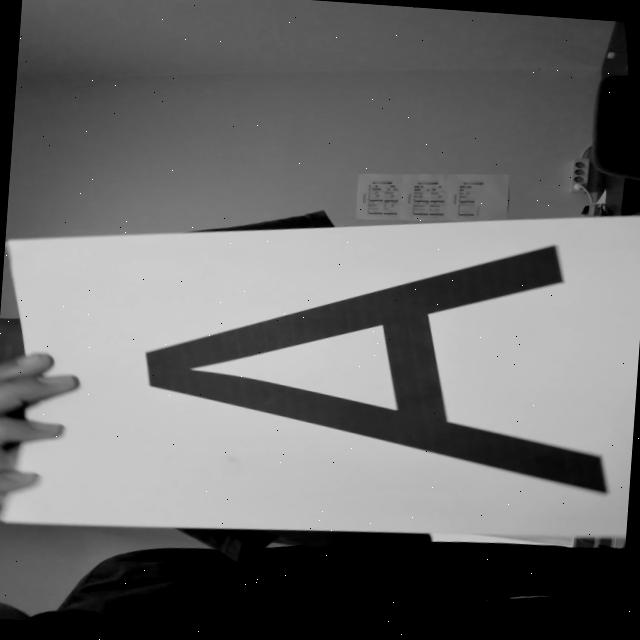a: (93, 197, 640, 522)
